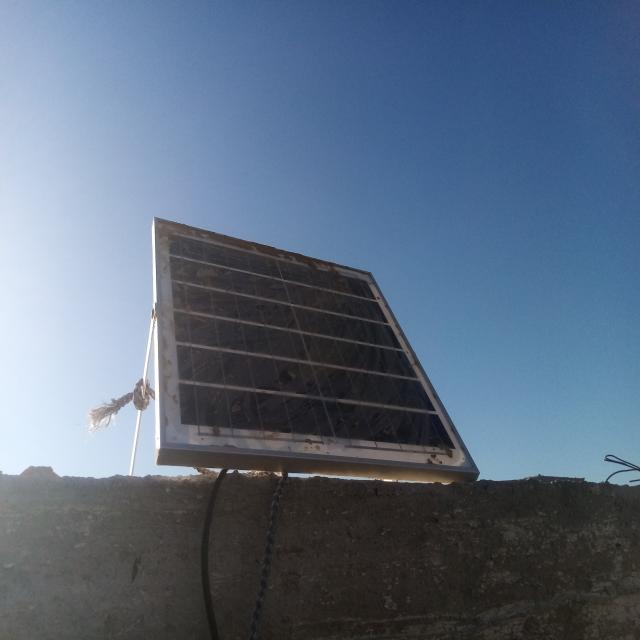faulty: (157, 224, 480, 472)
